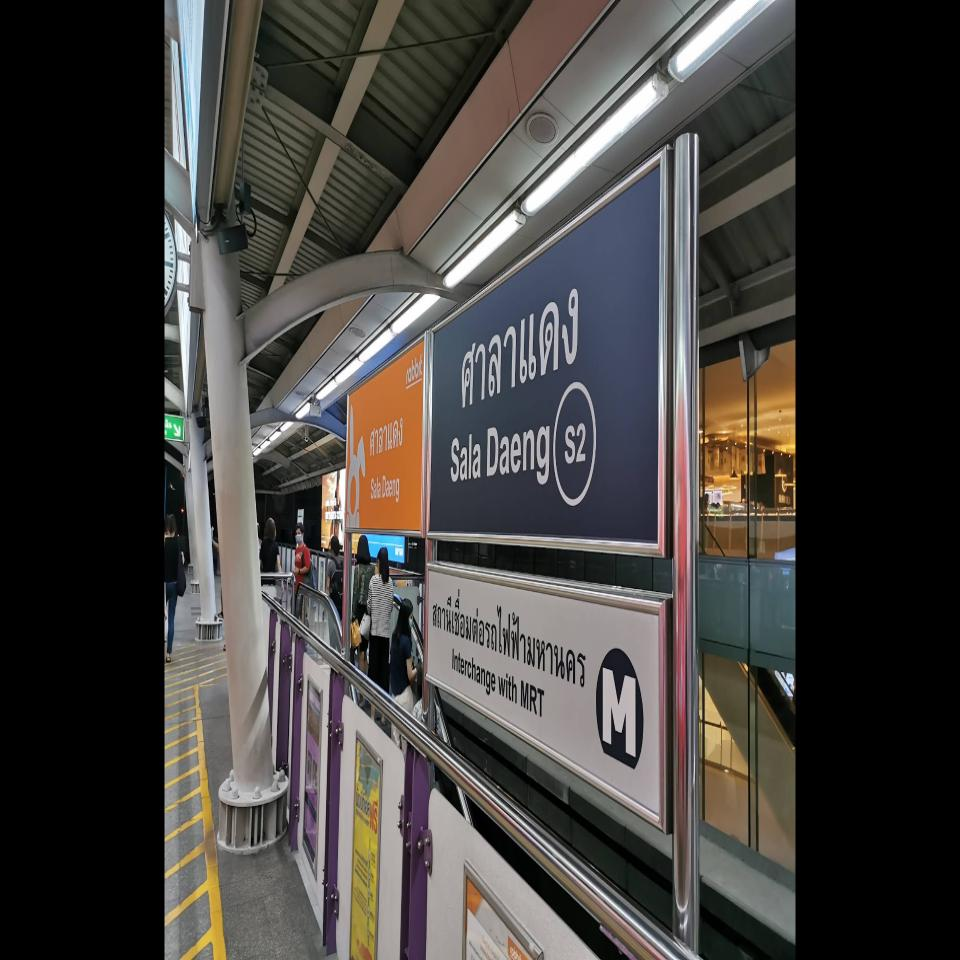signage: (425, 142, 671, 560), (344, 324, 432, 538)
